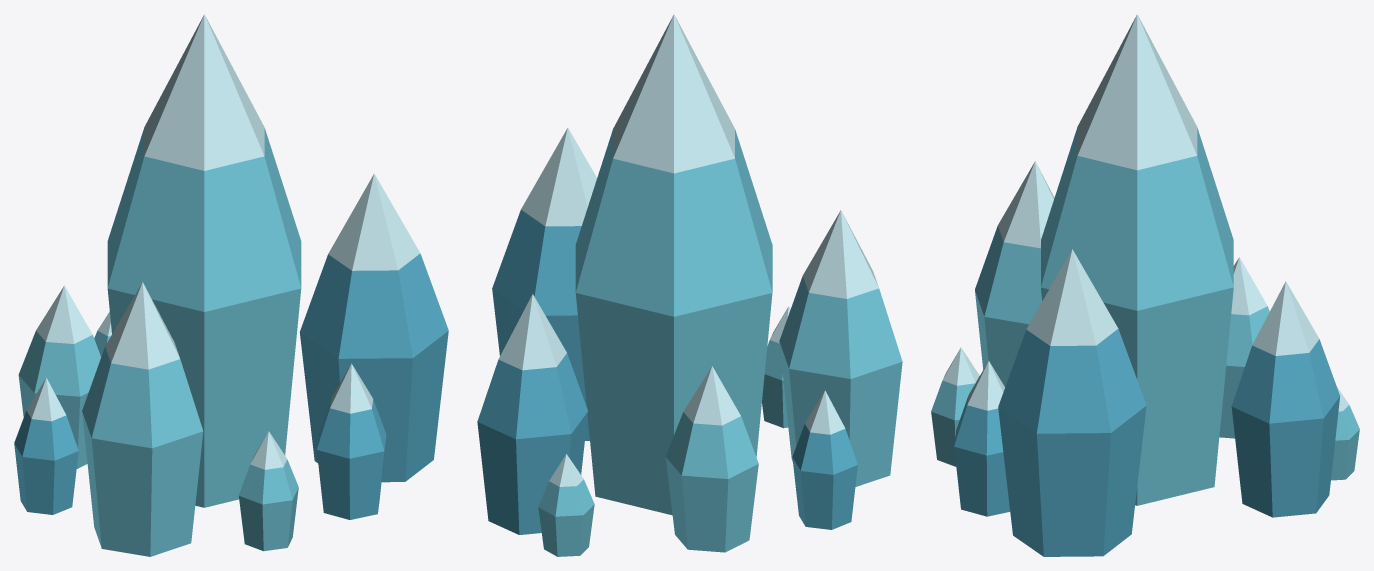
File: ore-crystal.obj
The picture shows the model from 3 angles, left to right: view 1: azimuth 30°, elevation 25°; view 2: azimuth 150°, elevation 25°; view 3: azimuth 270°, elevation 25°; orthographic projection. The views are drawn at different scales.
Parts seen in each view (by area): view 1: ore-crystal; view 2: ore-crystal; view 3: ore-crystal.
Boxes of the visible parts, <box> form: ore-crystal: <box>14,14,448,556</box>; ore-crystal: <box>477,14,902,556</box>; ore-crystal: <box>931,14,1359,556</box>.
Bounding box in the file's own units: 4.65 × 5.4 × 4.62.
